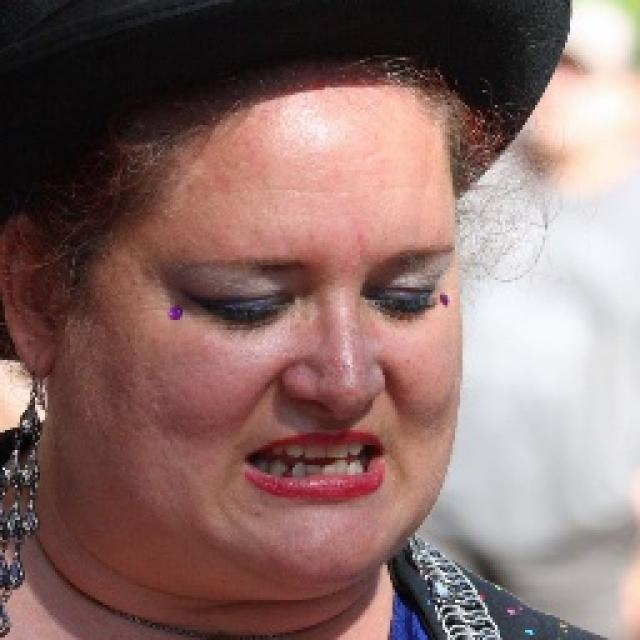earlobe: (19, 324, 58, 379)
eye: (200, 287, 292, 324), (370, 286, 446, 318)
nose: (287, 394, 371, 429)
wholeear: (0, 212, 55, 378)
